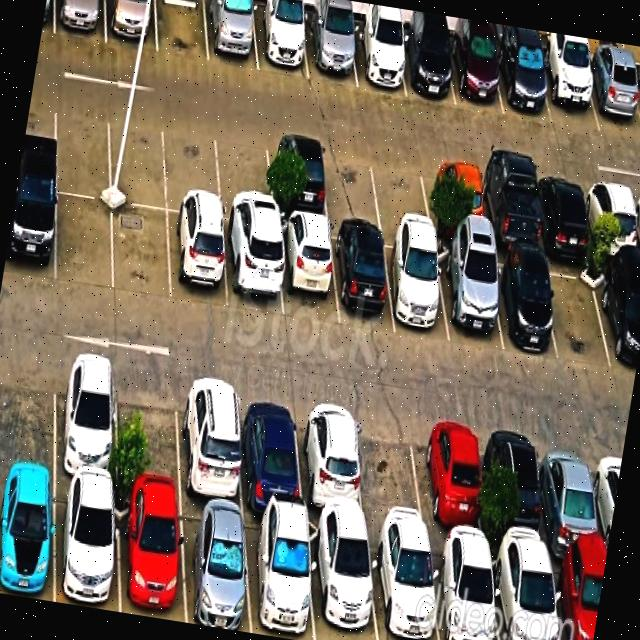empty: (353, 406, 428, 538), (117, 365, 182, 500), (544, 255, 613, 366), (0, 347, 55, 477), (108, 108, 167, 211), (215, 126, 274, 229), (113, 204, 171, 303), (165, 118, 221, 219), (55, 99, 110, 200), (57, 194, 113, 292), (372, 148, 432, 232), (322, 142, 382, 226), (156, 0, 209, 63)
occupied: (179, 502, 251, 633), (417, 413, 485, 548), (296, 397, 365, 529), (117, 492, 186, 623), (244, 513, 314, 640), (539, 431, 605, 562), (55, 481, 120, 612), (179, 376, 243, 509), (238, 386, 303, 516), (308, 521, 378, 640), (55, 354, 117, 488), (488, 423, 550, 555), (368, 534, 439, 640), (435, 244, 503, 352), (383, 234, 449, 343), (487, 251, 556, 355), (0, 474, 55, 602), (429, 540, 499, 640), (331, 225, 395, 331), (277, 218, 338, 326), (490, 548, 559, 640), (168, 214, 228, 310), (223, 224, 283, 319), (477, 165, 541, 253), (3, 182, 57, 284), (267, 134, 329, 220), (425, 157, 486, 242), (538, 51, 600, 132), (534, 172, 593, 255), (598, 262, 640, 376), (582, 57, 640, 139), (495, 41, 552, 124), (584, 178, 640, 262), (550, 556, 606, 640), (448, 35, 504, 115), (252, 4, 309, 80), (398, 31, 455, 106), (349, 23, 406, 97), (205, 0, 258, 72), (304, 16, 357, 86), (105, 0, 157, 52), (55, 0, 106, 44)
